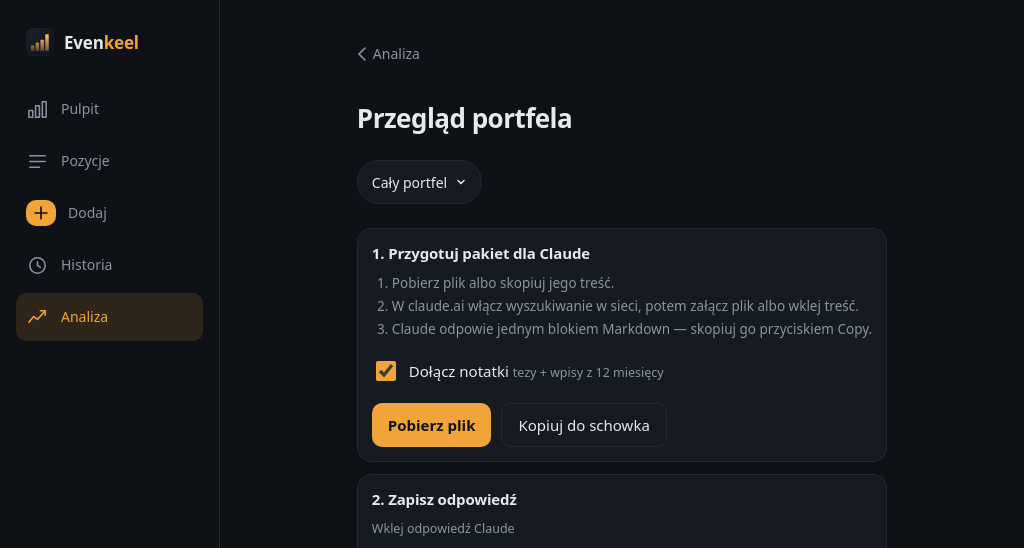
it: Przegląd portfela › copies the package to the clipboard
Click the button "Kopiuj do schowka" at [584, 425], box [502,403,667,447]
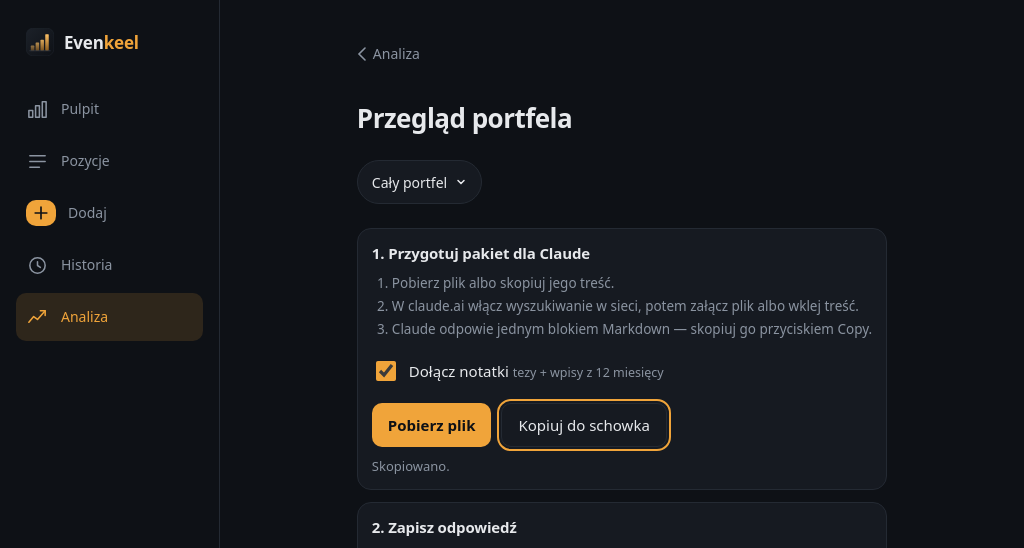
Now the message reads "Skopiowano.", box [372,457,450,475]
